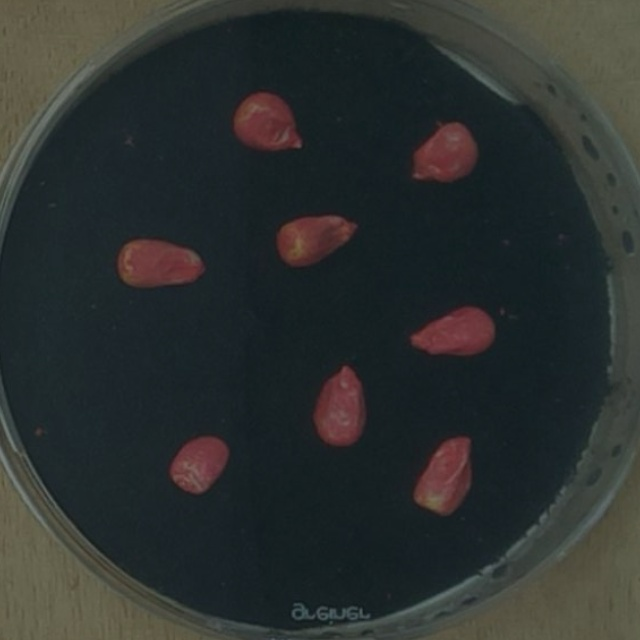Zea mays: (105, 229, 214, 297), (267, 204, 367, 275), (406, 427, 478, 523), (401, 298, 505, 364), (399, 112, 485, 190), (224, 85, 312, 161), (306, 358, 373, 454), (162, 425, 237, 502)
